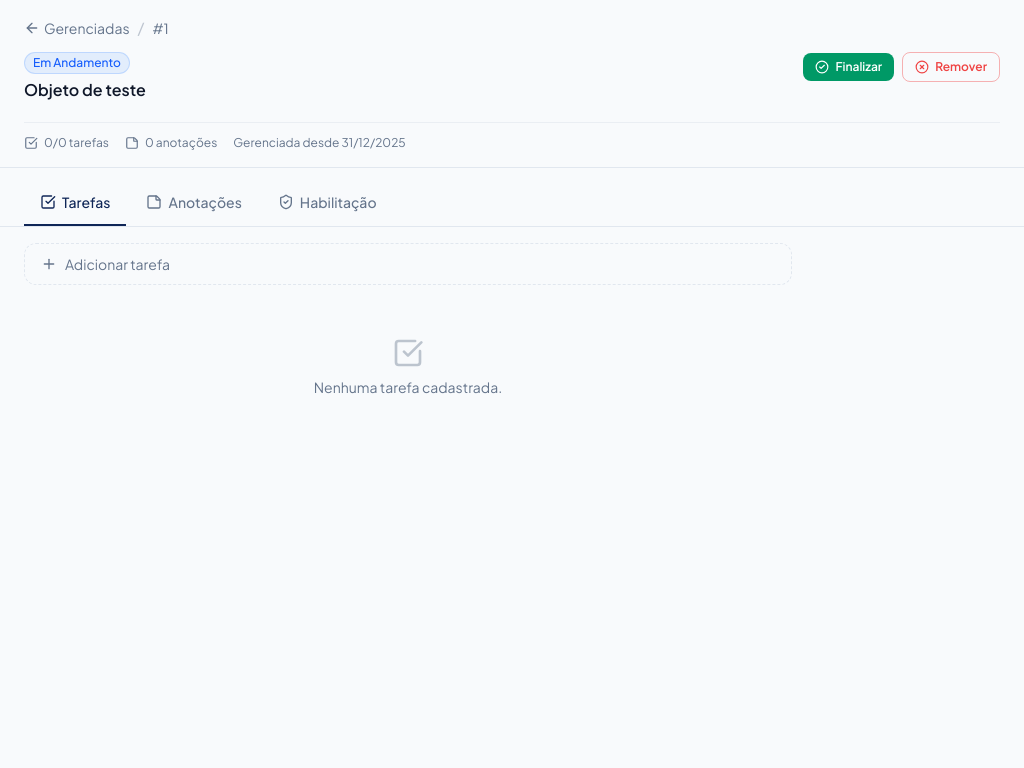
GerenciamentoDetalhe – updateGer onError toast › shows 'Erro ao atualizar' toast when PATCH /api/gerenciamento/:id returns 500
This screenshot has width=1024, height=768.
Click the button "Finalizar". click: (849, 67)
box: [804, 53, 894, 81]
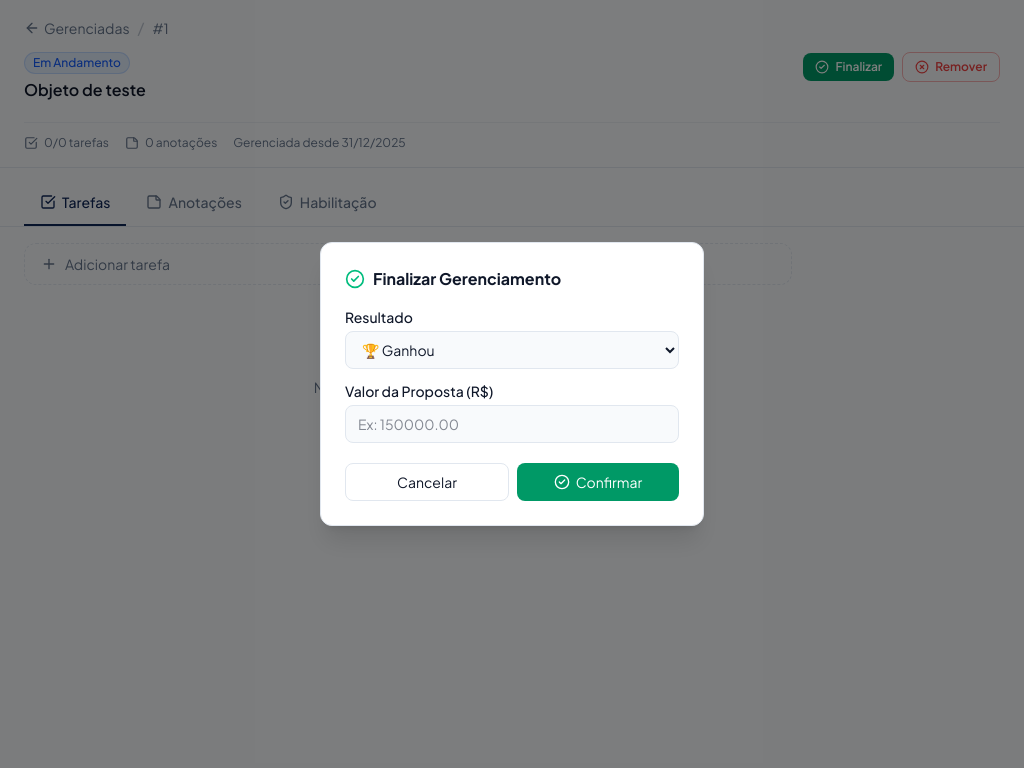
Now the heading "Finalizar Gerenciamento" is shown, box [345, 268, 561, 289]
Click the button "Confirmar". click: (598, 482)
box: [517, 463, 679, 501]
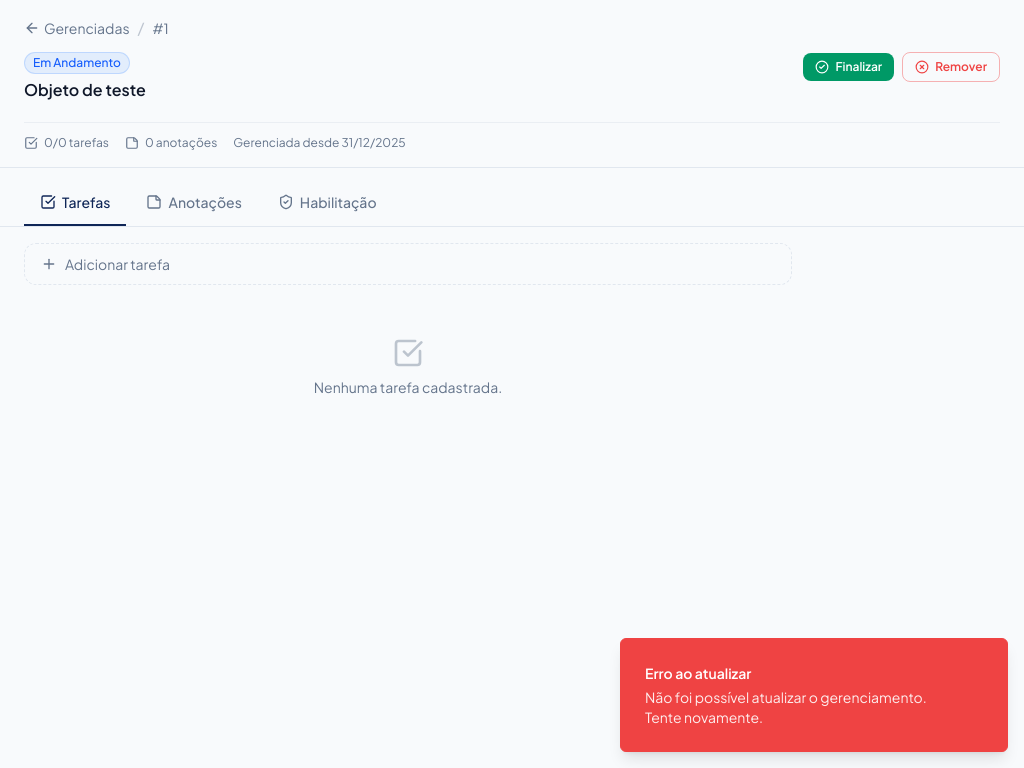
Now the text "Erro ao atualizar" is shown, box [645, 664, 751, 682]
Now the text "Não foi possível atualizar o gerenciamento. Tente novamente." is shown, box [645, 687, 959, 727]
